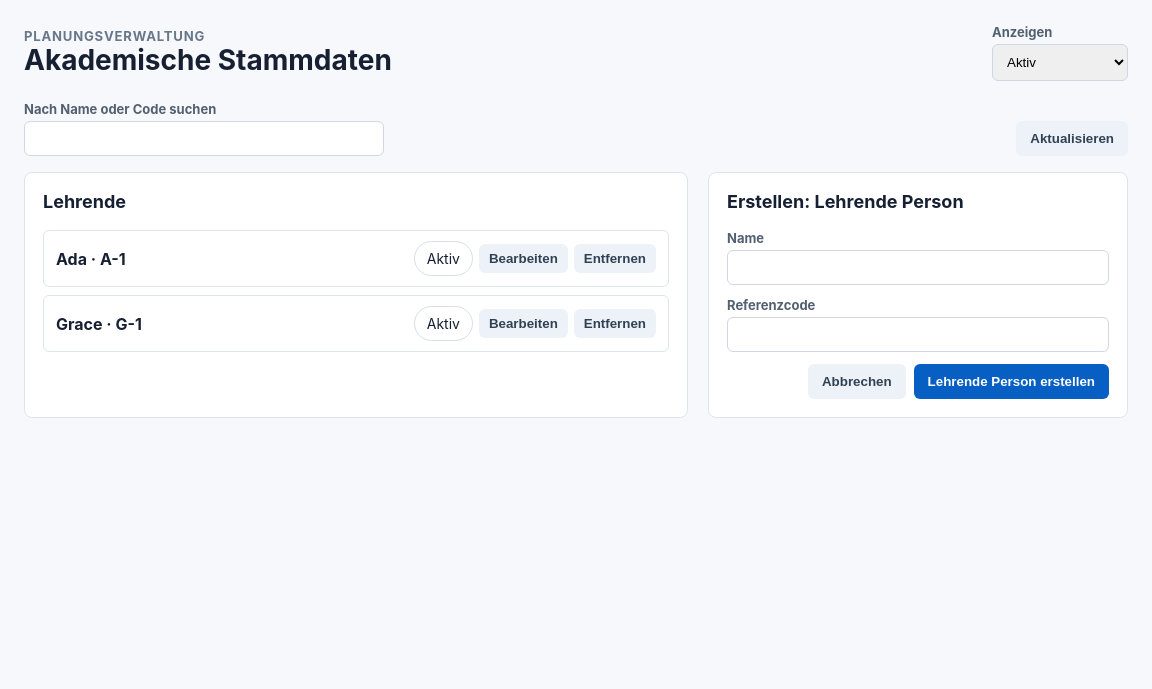
Test: AcademicDataPage › ignores an older availability response after another resource is selected
Click the button "Bearbeiten" in the row of "Ada" at (523, 258), box [479,244,568,273]
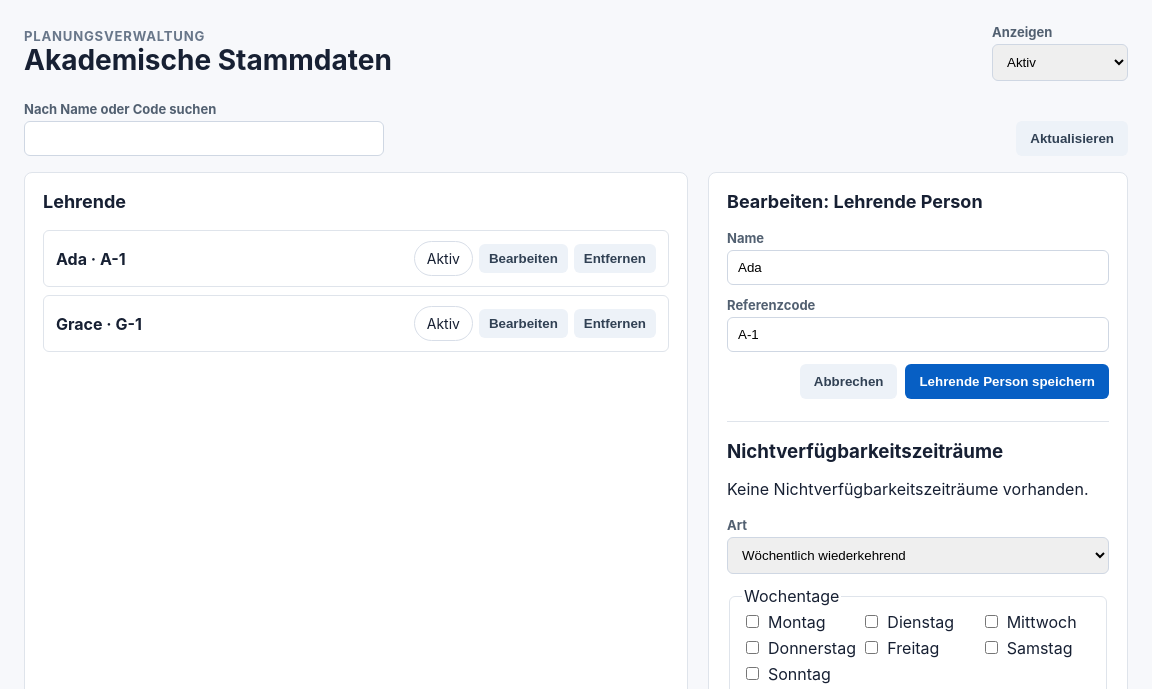
Click the button "Bearbeiten" in the row of "Grace" at (523, 324), box [479,309,568,338]
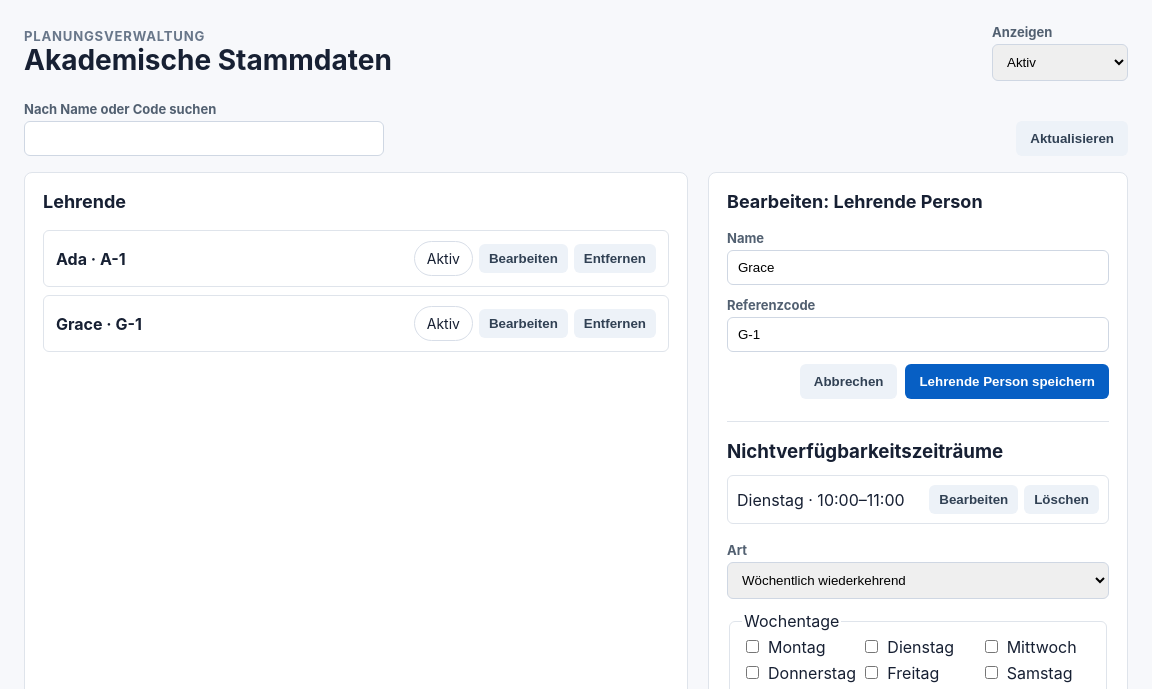
Expected: the text "Dienstag · 10:00–11:00" is shown, [737,490,905,510]
